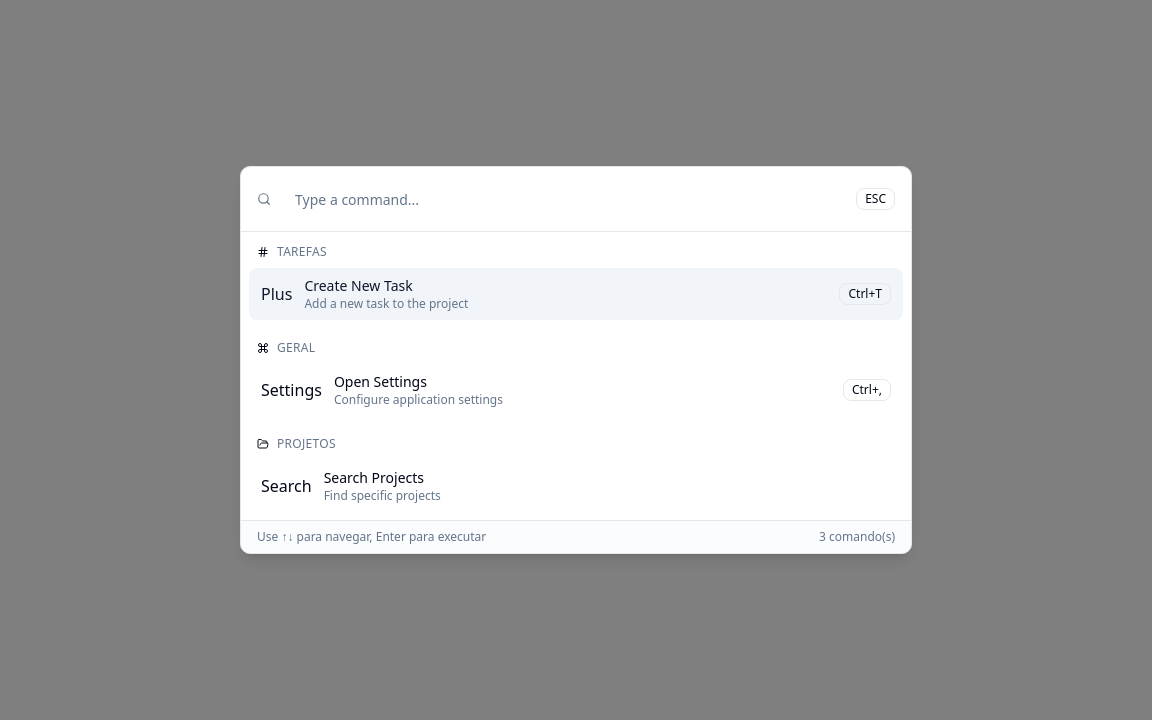
CommandPalette › should filter actions based on search query
Type "task" into the field with placeholder "Type a command...".
click(566, 199); type("task")  # box [283,179,848,219]
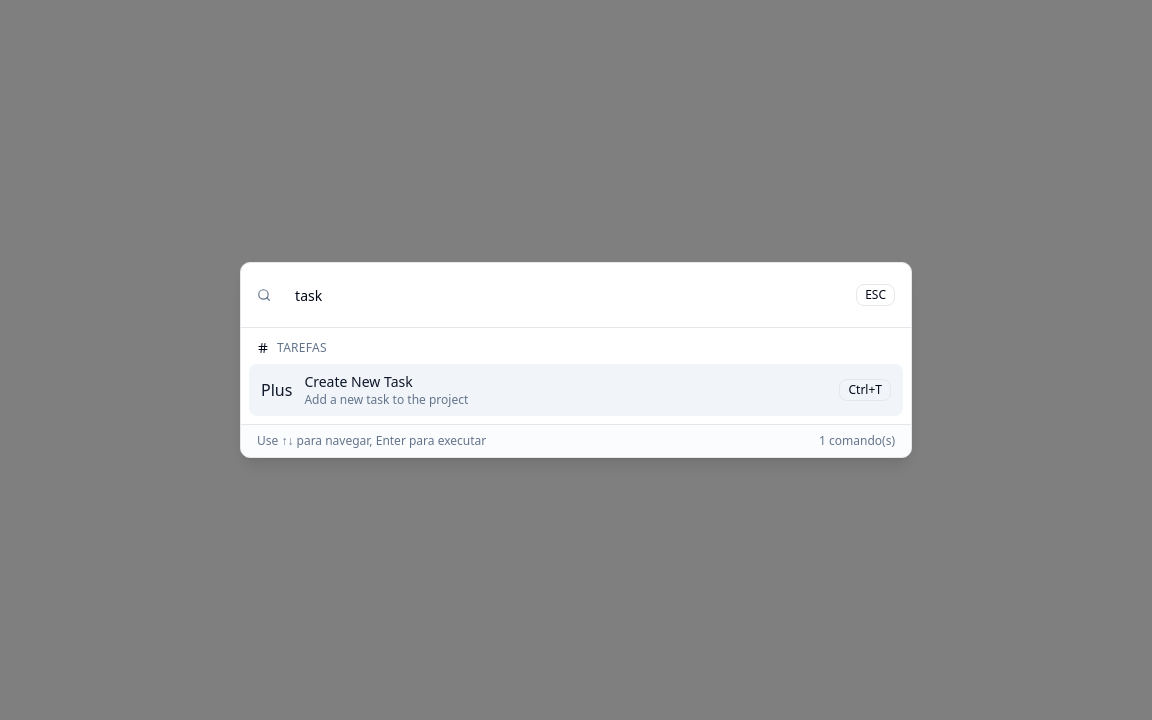
Check: the text "Create New Task" is shown, box [304,372,413,391]
Check: the text "Open Settings" is gone
Check: the text "Search Projects" is gone
